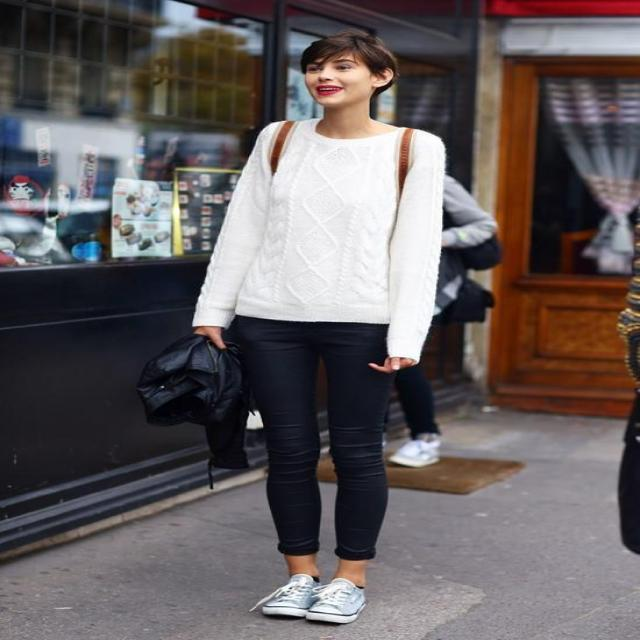pants: (233, 313, 393, 559)
sweater: (193, 118, 446, 363)
